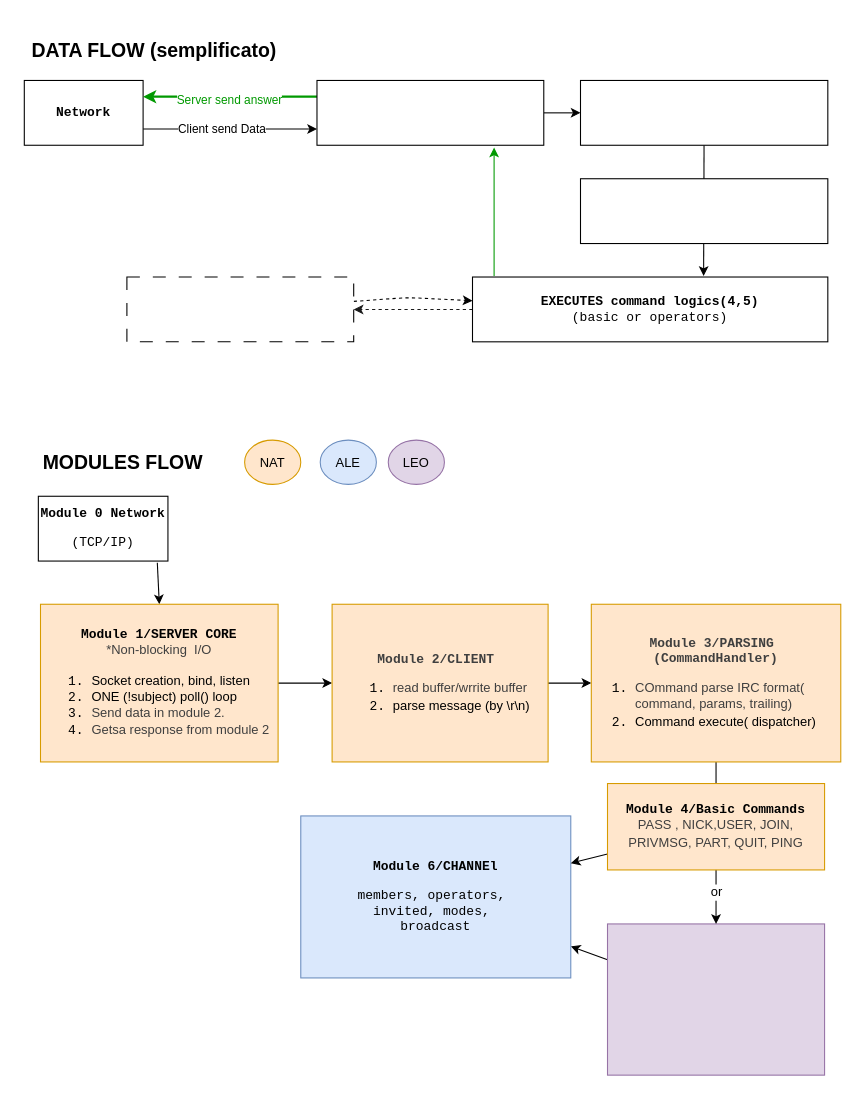
Some shapes in this 860 by 1094 pixel diagram are drawn without their labels. The shapes that lost their labels are listed below. From the top down, each one's centre as x and y in pixels, then its label:
point (430, 112): SERVER (1) poll() waits recv()reads data send() response back
point (703, 112): СLIENT + PARSING (2) saves data to buffer, parse messsage, extract message
point (703, 211): CommandHandler (3) parse IRC commands, execute command
point (240, 309): CHANNELS UPDATES (6) if command relates to channels
point (715, 999): Module 5/OPERATOR Commands KICK INVITE TOPIC MODE - i, t, k, o, l
